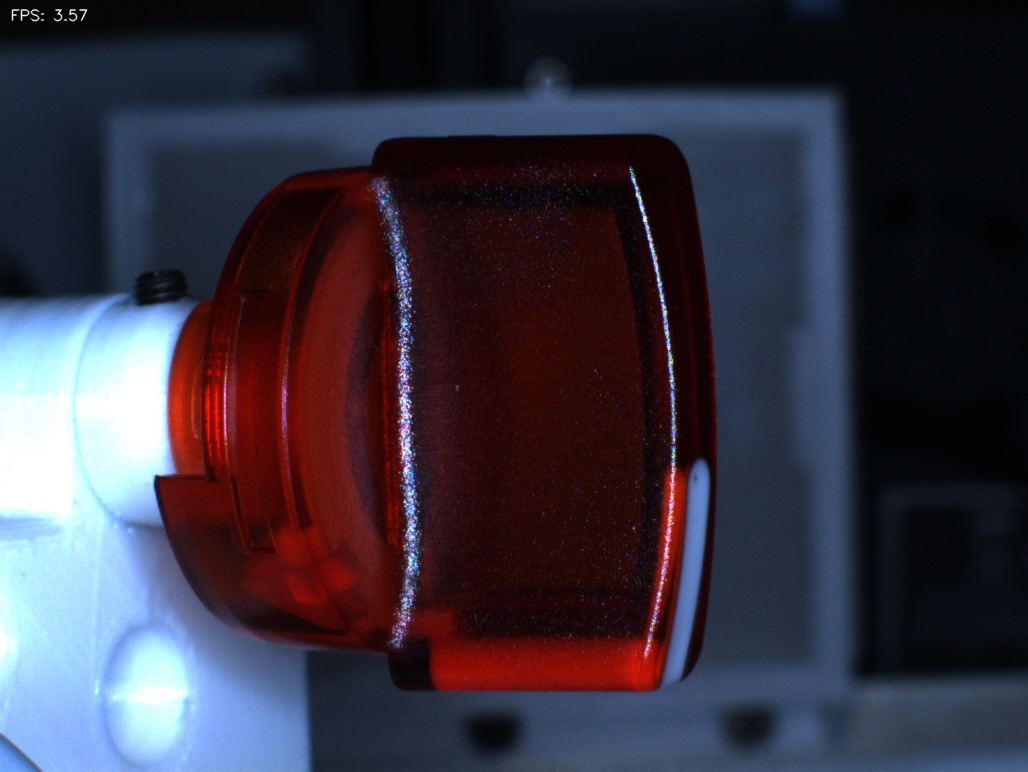PointNoir: (669, 444, 742, 506)
